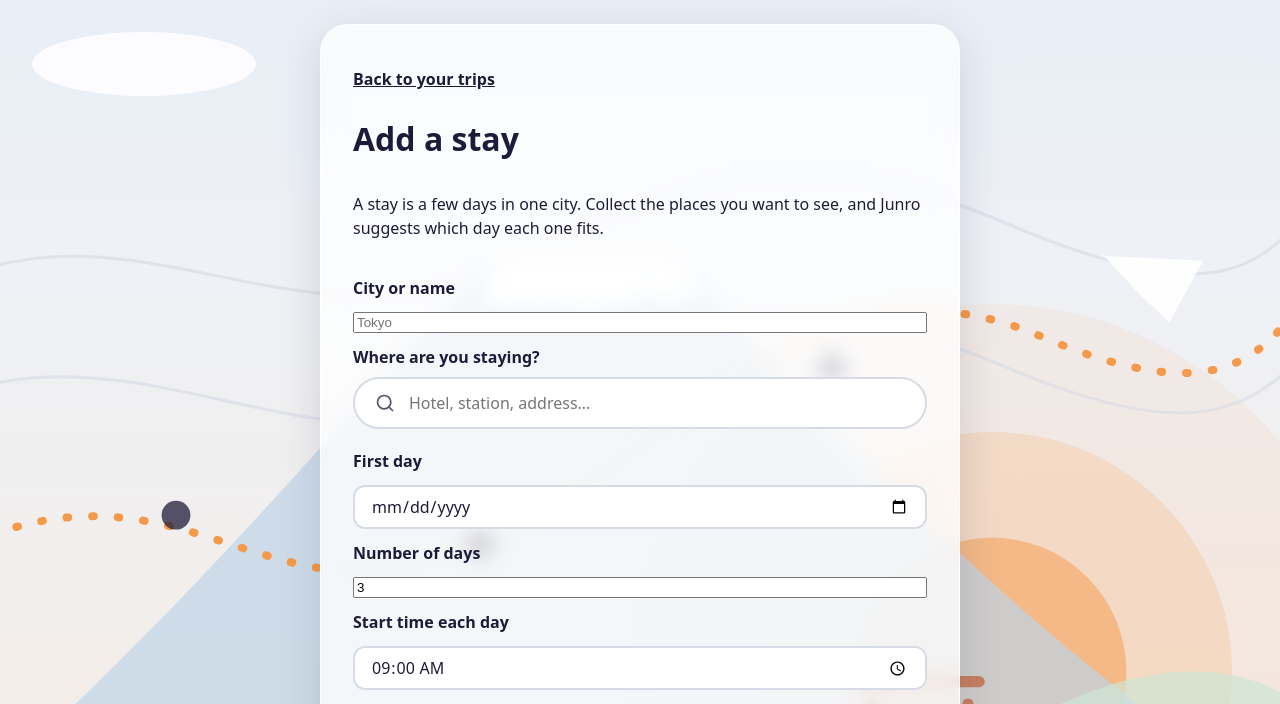
it: NewStayPage › explains a date clash with another stay
Type "Kyoto" into the field labelled "City or name".
click(640, 323); type("Kyoto")  # box x1=353 y1=312 x2=927 y2=333
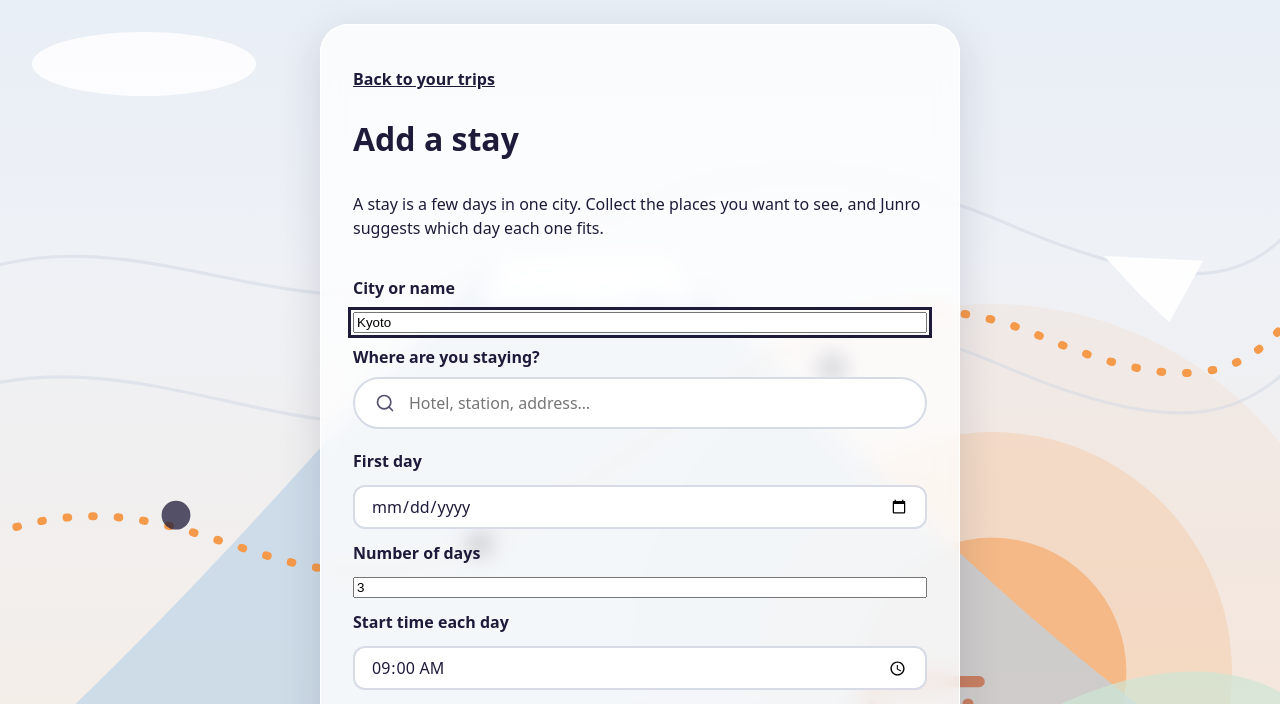
Type "hotel" into the field named "where are you staying".
click(656, 403); type("hotel")  # box x1=407 y1=381 x2=905 y2=425
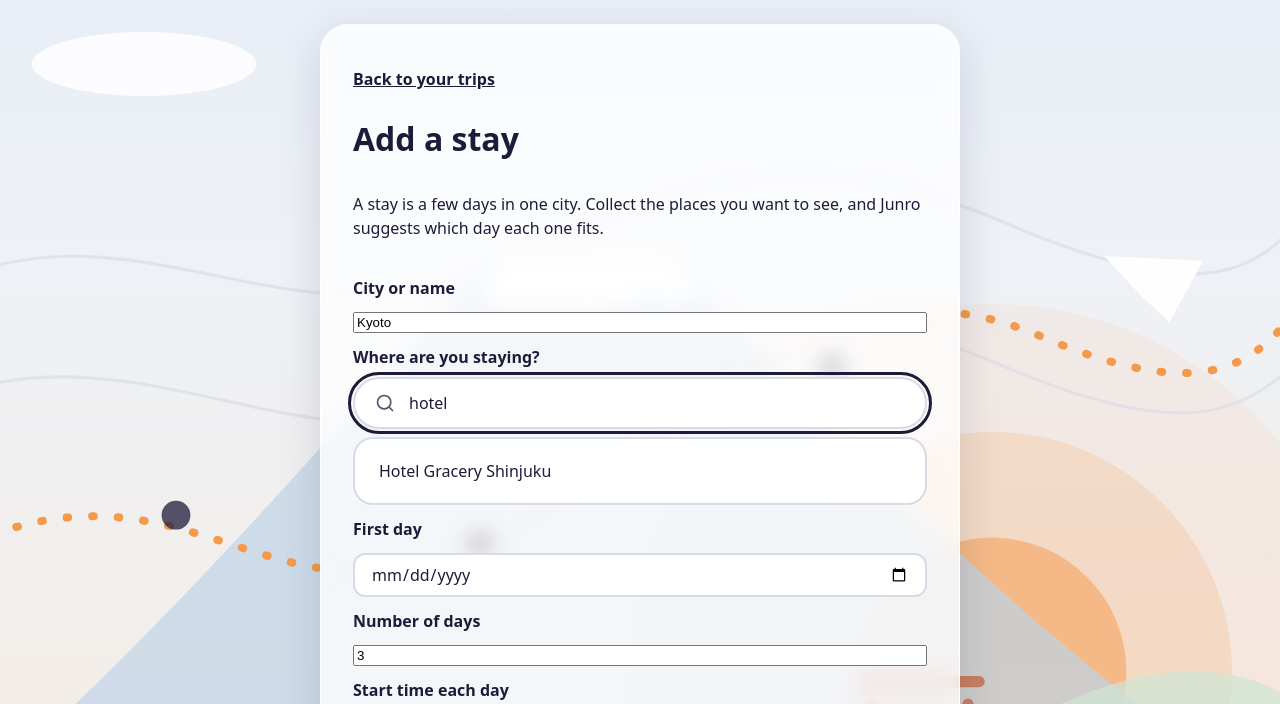
Click the button "Hotel Gracery Shinjuku".
click(465, 471)  # box x1=363 y1=447 x2=917 y2=495
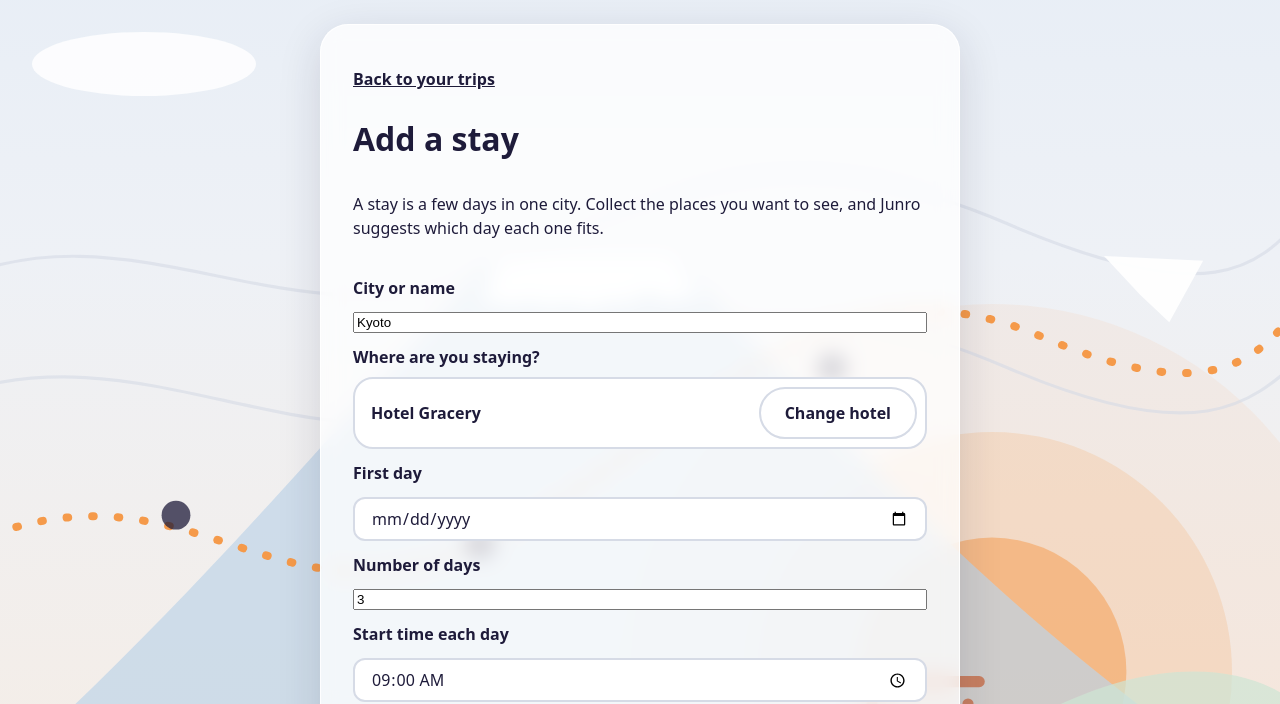
Type "2027-04-01" into the date field labelled "First day".
click(640, 519); type("2027-04-01")  # box x1=353 y1=497 x2=927 y2=541
(page scrolled)
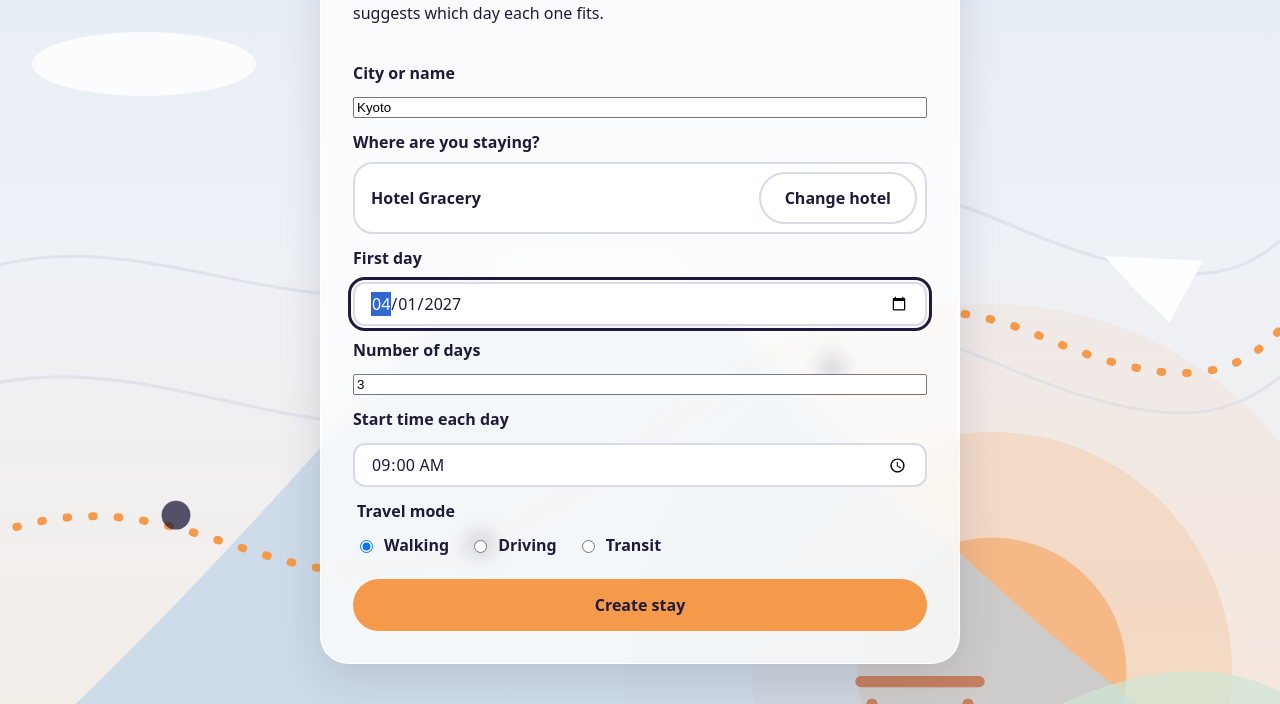
Click the button "Create stay".
click(640, 605)  # box x1=353 y1=579 x2=927 y2=631
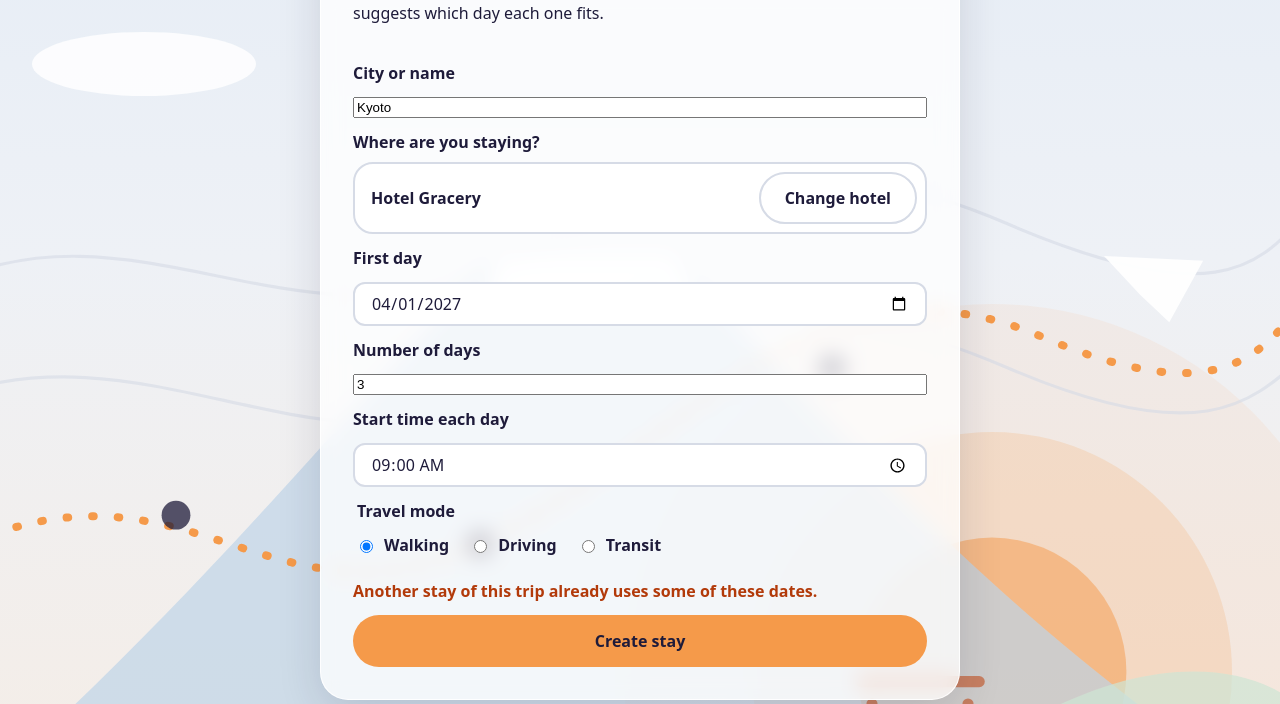
Expected: the message shows "already uses some of these dates", x1=353 y1=580 x2=817 y2=602
